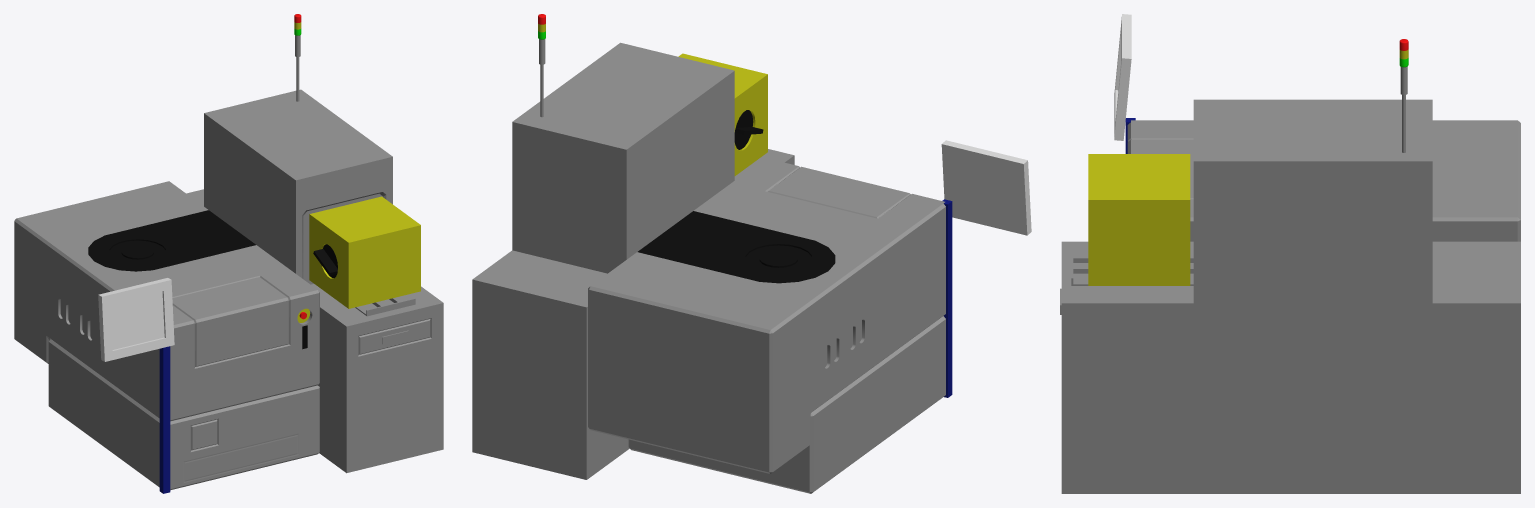
Rendered from ATEceshijitai.FBX.
The picture shows the model from 3 angles, left to right: view 1: azimuth 30°, elevation 25°; view 2: azimuth 150°, elevation 25°; view 3: azimuth 270°, elevation 25°; orthographic projection. The views are drawn at different scales.
Visible parts, largest first — view 1: ATEceshijitai_00, ATEceshijitai_04, ATEceshijitai_03, ATEceshijitai_01, ATEceshijitai_09, ATEceshijitai_14, ATEceshijitai_17, ATEceshijitai_18, ATEceshijitai_19, ATEceshijitai_02, ATEceshijitai_11; view 2: ATEceshijitai_00, ATEceshijitai_04, ATEceshijitai_03, ATEceshijitai_01, ATEceshijitai_14, ATEceshijitai_17, ATEceshijitai_09, ATEceshijitai_02, ATEceshijitai_11; view 3: ATEceshijitai_03, ATEceshijitai_04, ATEceshijitai_09, ATEceshijitai_00, ATEceshijitai_17.
Boxes of the visible parts, left/top/right/bottom form: ATEceshijitai_00: left=14, top=181, right=319, bottom=421; ATEceshijitai_04: left=204, top=89, right=415, bottom=316; ATEceshijitai_03: left=186, top=189, right=443, bottom=473; ATEceshijitai_01: left=48, top=339, right=319, bottom=490; ATEceshijitai_09: left=309, top=196, right=420, bottom=308; ATEceshijitai_14: left=88, top=210, right=255, bottom=271; ATEceshijitai_17: left=98, top=278, right=174, bottom=361; ATEceshijitai_18: left=110, top=291, right=164, bottom=349; ATEceshijitai_19: left=184, top=435, right=297, bottom=481; ATEceshijitai_02: left=159, top=346, right=170, bottom=493; ATEceshijitai_11: left=313, top=244, right=337, bottom=278; ATEceshijitai_00: left=588, top=158, right=945, bottom=473; ATEceshijitai_04: left=512, top=42, right=734, bottom=273; ATEceshijitai_03: left=472, top=149, right=794, bottom=479; ATEceshijitai_01: left=628, top=316, right=945, bottom=493; ATEceshijitai_14: left=638, top=211, right=835, bottom=283; ATEceshijitai_17: left=941, top=140, right=1031, bottom=235; ATEceshijitai_09: left=678, top=53, right=767, bottom=175; ATEceshijitai_02: left=942, top=199, right=952, bottom=397; ATEceshijitai_11: left=734, top=110, right=763, bottom=149; ATEceshijitai_03: left=1061, top=241, right=1520, bottom=493; ATEceshijitai_04: left=1071, top=99, right=1432, bottom=303; ATEceshijitai_09: left=1088, top=154, right=1190, bottom=285; ATEceshijitai_00: left=1127, top=120, right=1520, bottom=241; ATEceshijitai_17: left=1114, top=14, right=1131, bottom=140.
Size of the model in its own units: 304 by 312 by 293.
